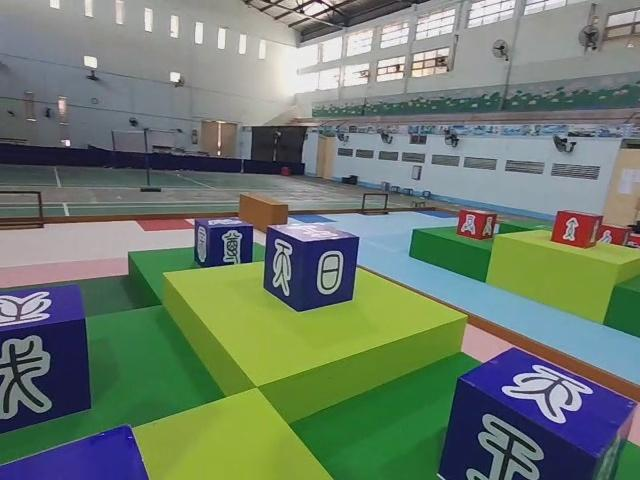R2 Fake Blue: (437, 351, 637, 480), (2, 283, 94, 443), (261, 224, 359, 314), (194, 220, 254, 271)
